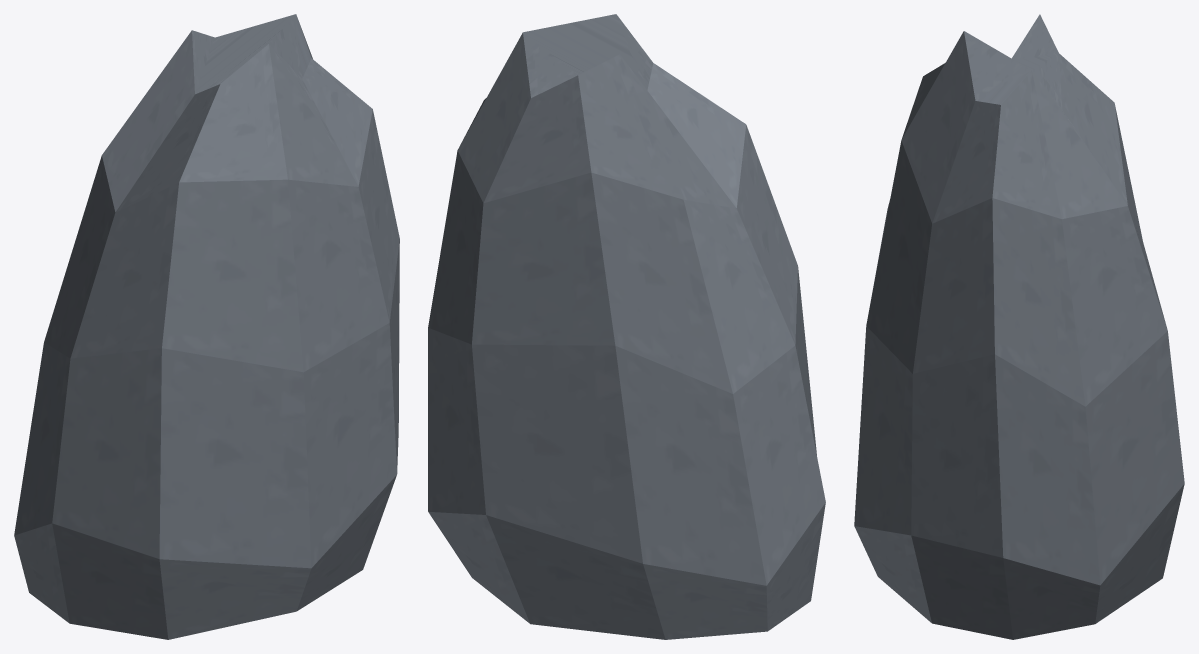
The model's file is showcase_rock_face_variant.glb.
3 views of the same model, side by side, from view 1: azimuth 30°, elevation 25°; view 2: azimuth 150°, elevation 25°; view 3: azimuth 270°, elevation 25° (orthographic). The views are drawn at different scales.
Visible parts, largest first — view 1: outdoor_showcase_rock_face_variant; view 2: outdoor_showcase_rock_face_variant; view 3: outdoor_showcase_rock_face_variant.
Boxes of the visible parts, bbox=[...] form: outdoor_showcase_rock_face_variant: bbox=[14, 14, 399, 639]; outdoor_showcase_rock_face_variant: bbox=[428, 14, 825, 639]; outdoor_showcase_rock_face_variant: bbox=[854, 14, 1184, 639].
Size of the model in its own units: 3.4 by 4.8 by 2.6.
Materials: 1 (1 with a texture image).
